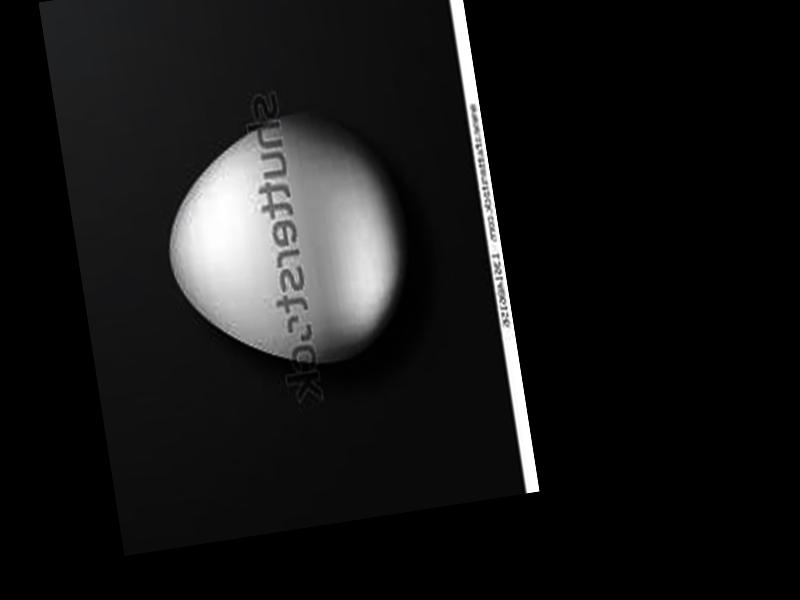Eggs: (149, 100, 422, 384)
